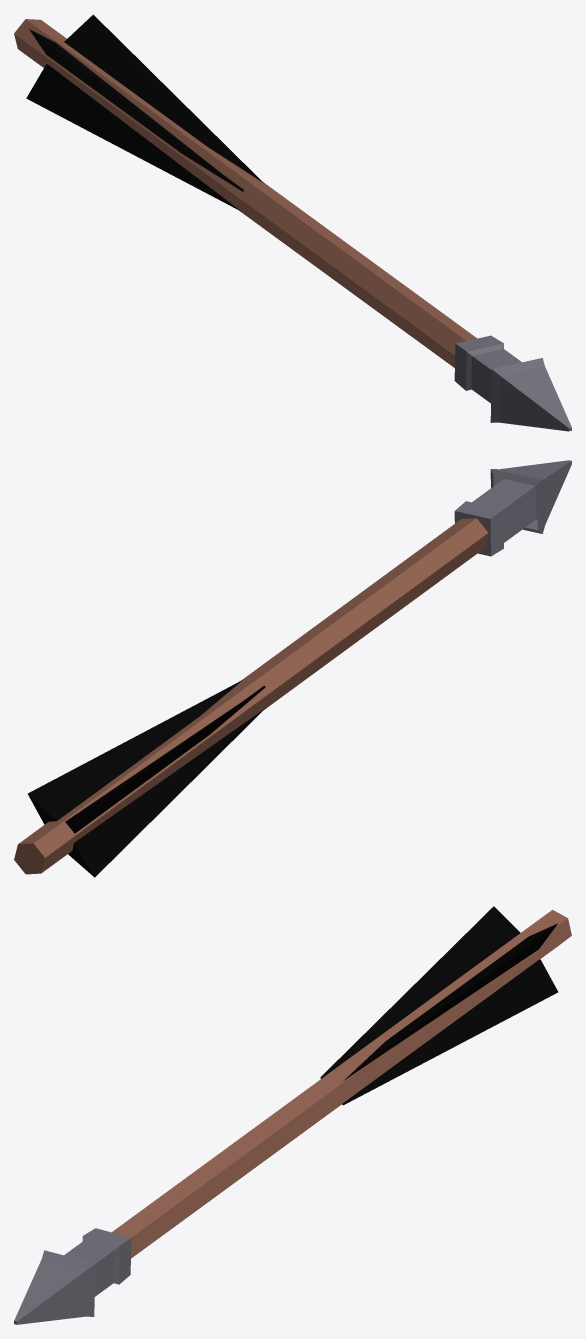
The model's file is Arrow.fbx.
3 renders of one model, top to bottom at view 1: azimuth 30°, elevation 25°; view 2: azimuth 150°, elevation 25°; view 3: azimuth 330°, elevation 25°, orthographic.
Parts seen in each view (by area): view 1: Arrows.003; view 2: Arrows.003; view 3: Arrows.003.
Part boxes in pixels (box(x1,y1,x2,y2)): Arrows.003: box(14, 14, 571, 431); Arrows.003: box(14, 460, 571, 877); Arrows.003: box(14, 906, 571, 1324).
Size of the model in its own units: 47.56 by 47.48 by 662.
